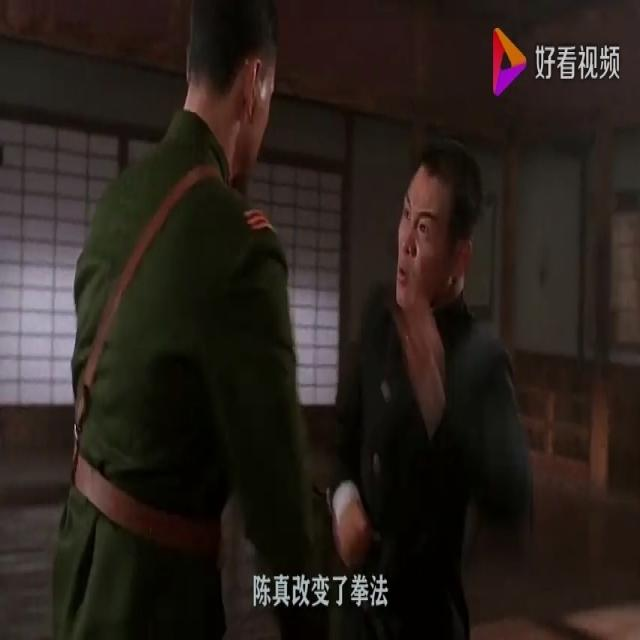fight: (48, 2, 528, 640)
